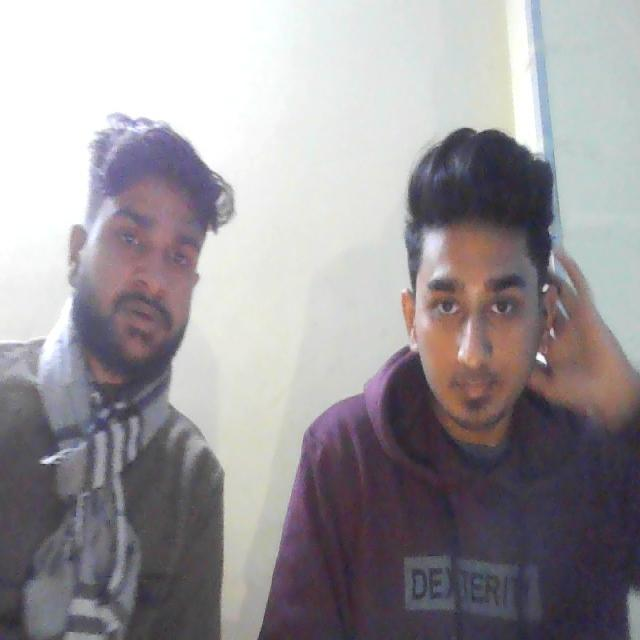real: (389, 127, 572, 473), (71, 118, 211, 382)
